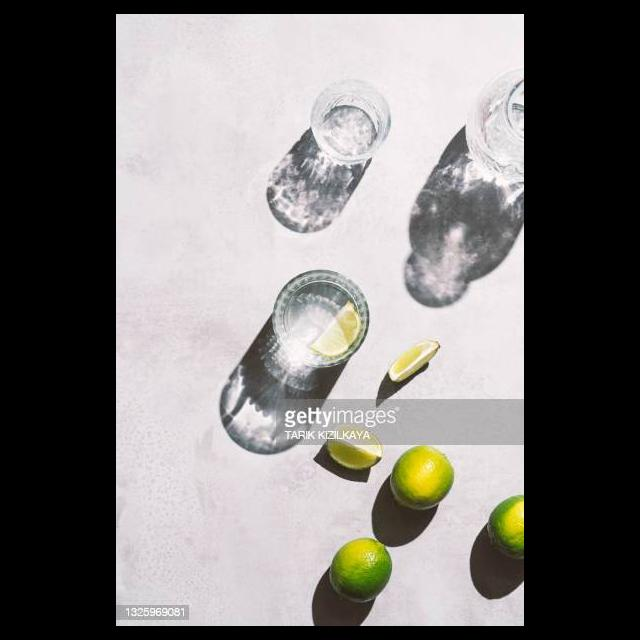lime: (384, 443, 458, 516), (321, 534, 394, 607), (483, 482, 524, 583)
